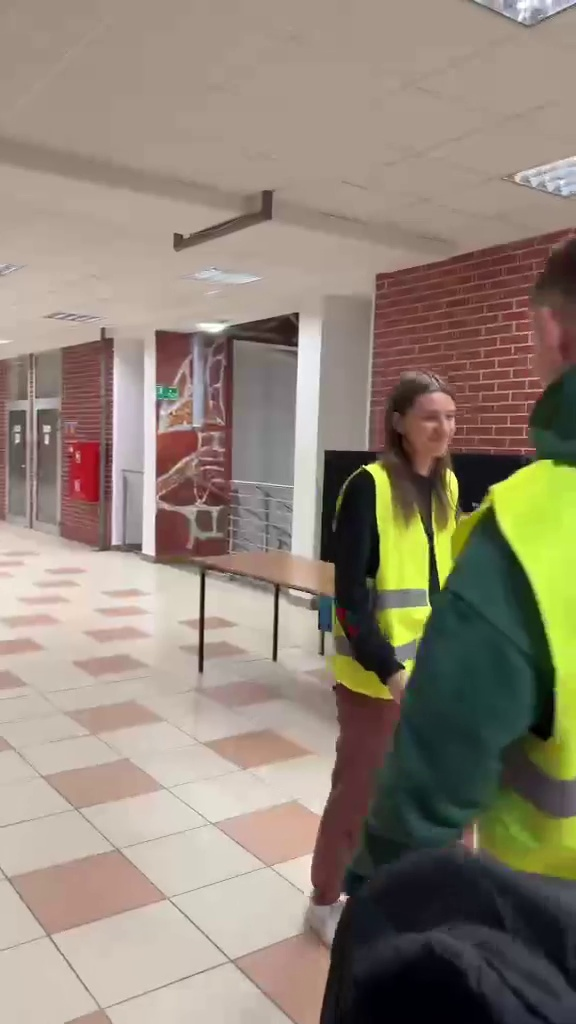vest: (449, 243, 576, 879), (309, 357, 466, 675)
